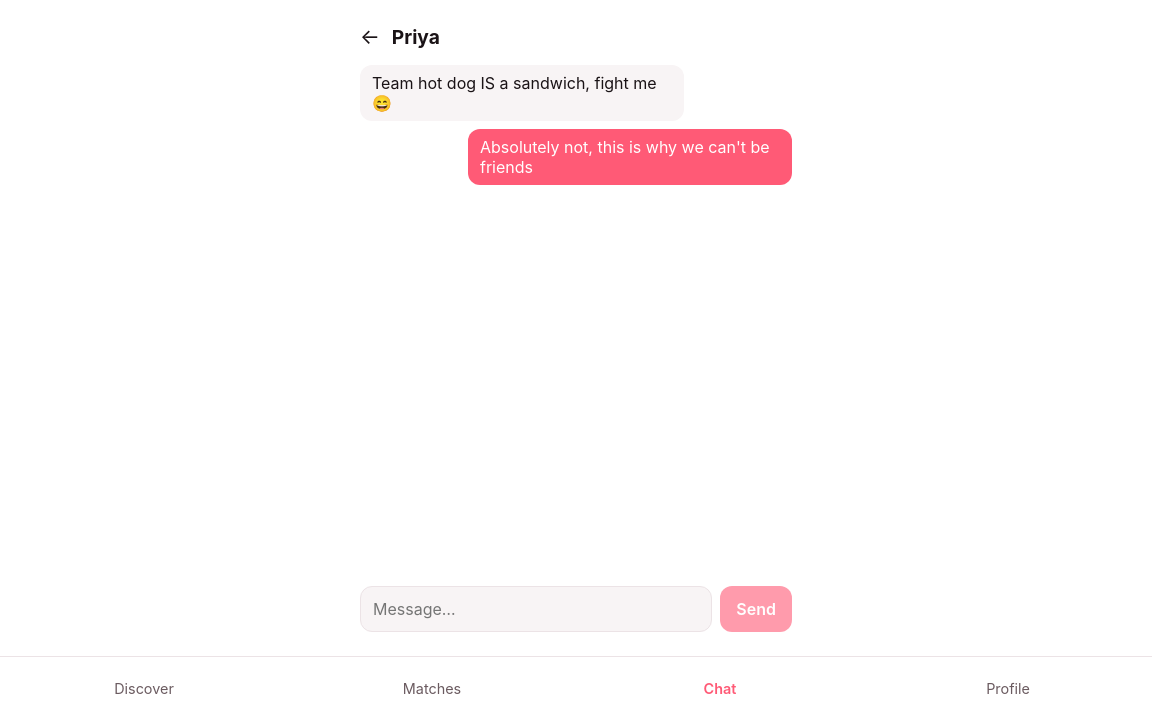
ChatPage › loads REST history and lets you send a new message
Check: the text "Team hot dog IS a sandwich, fight me 😄" is shown, box x1=360 y1=65 x2=684 y2=121
Type "Agree to disagree" into the field labelled "Message…". click: {"x": 536, "y": 609}
box: x1=360 y1=586 x2=712 y2=632
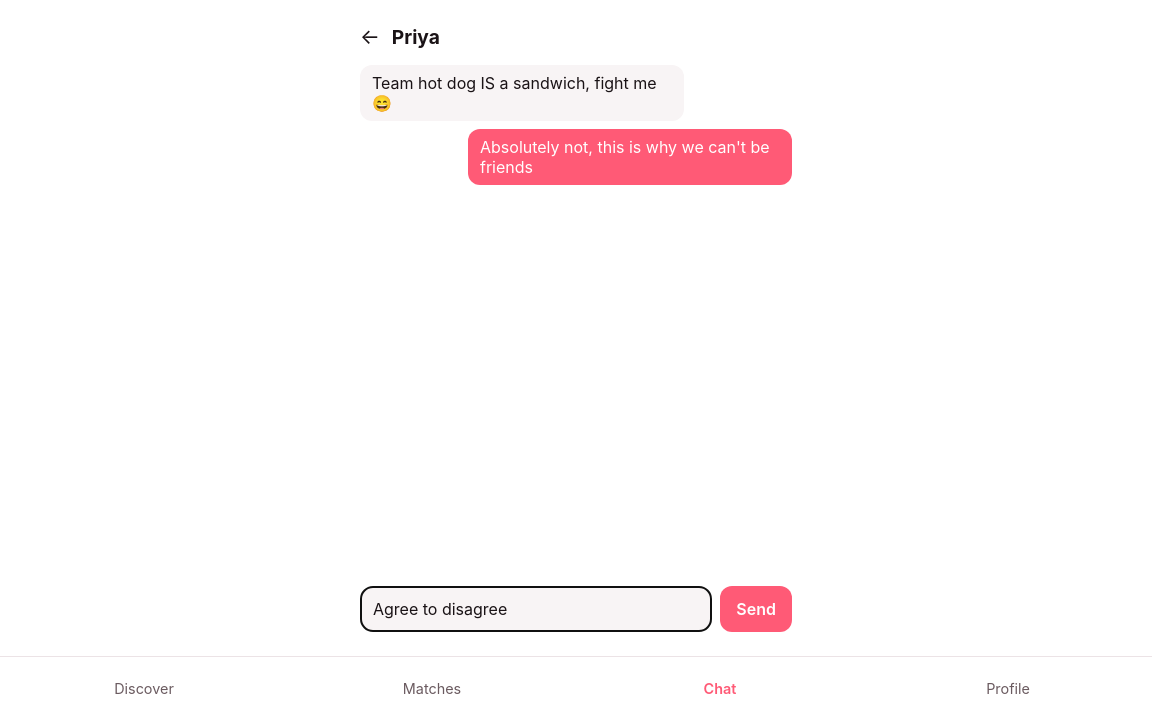
Click the button "Send". click: {"x": 756, "y": 609}
box: x1=720 y1=586 x2=792 y2=632
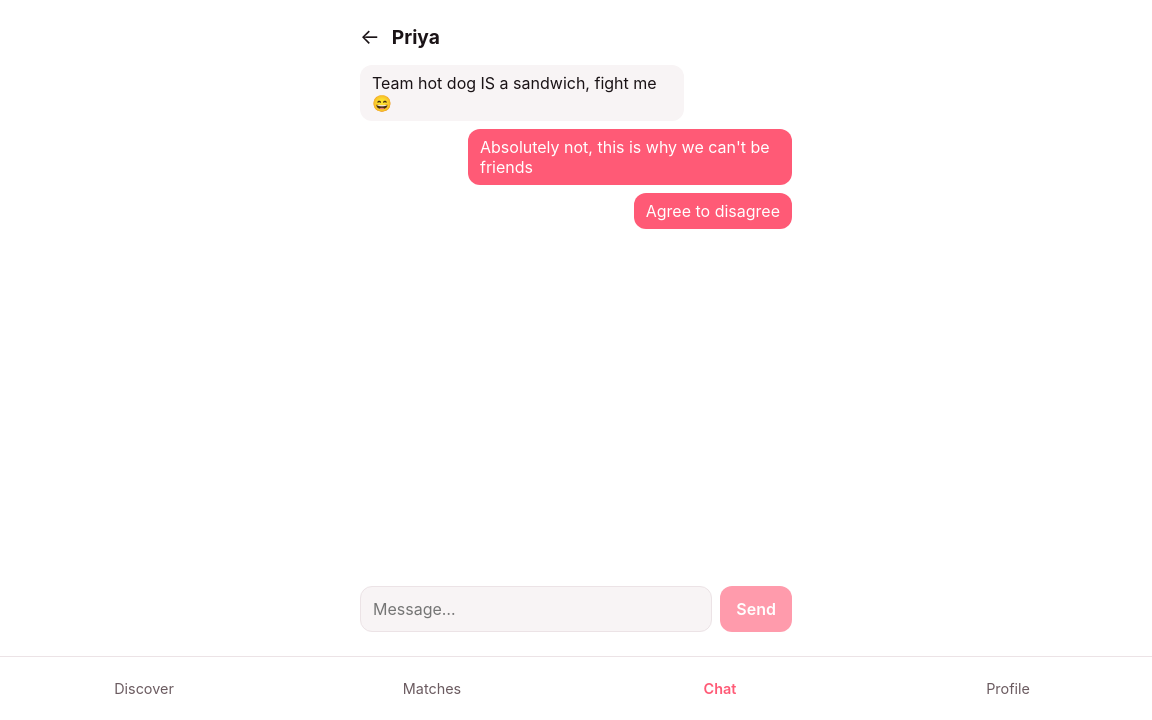
Check: the text "Agree to disagree" is shown, box x1=634 y1=193 x2=792 y2=229
